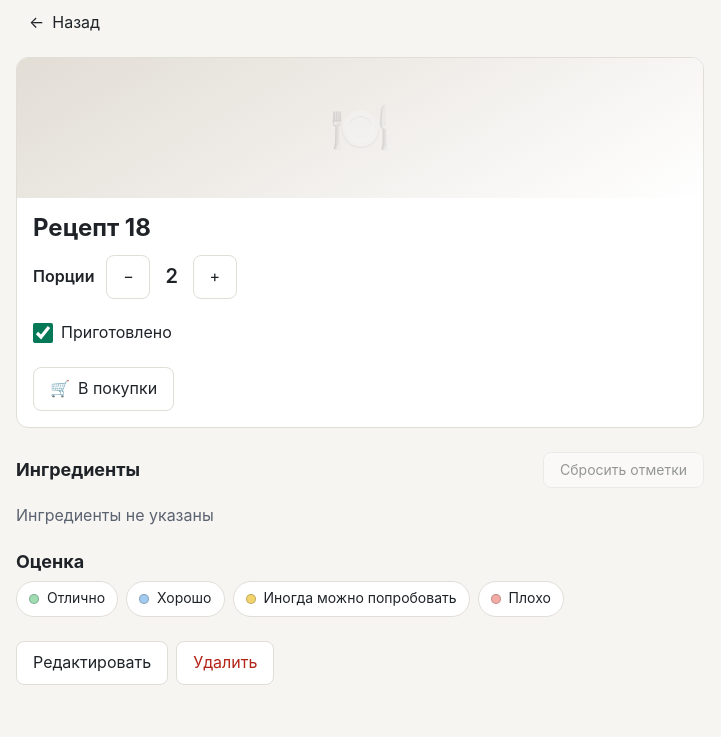
RecipeView: «Приготовлено» › снятие отметки возвращает плашку «Новое»
Expected: the heading "Рецепт 18" is shown, [33,213,151,242]
What coordinates should you click on to do the following:
click the checkbox with test id "cooked"
I would click on:
 (43, 333)
Its box is [33,323,53,343].
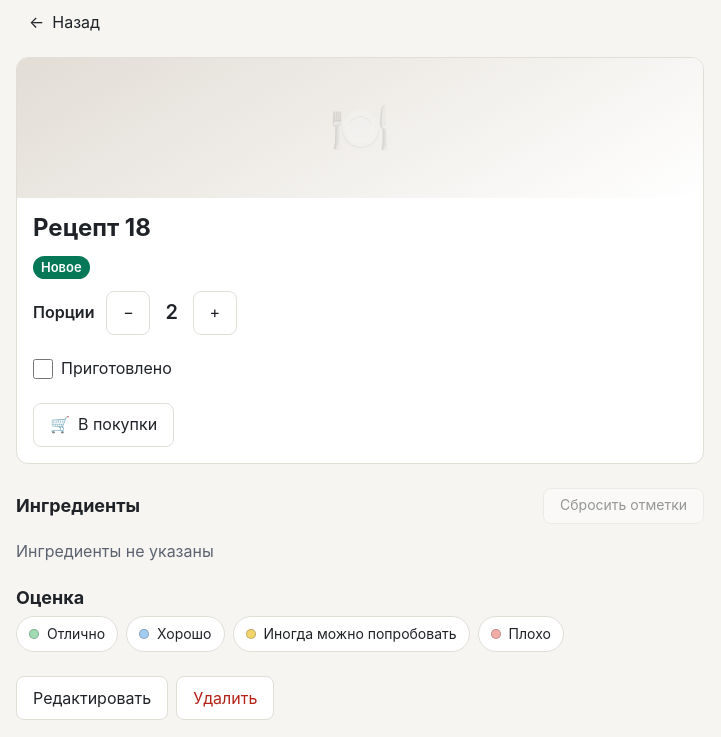
Expected: the text "Новое" is shown, [33,256,90,279]
